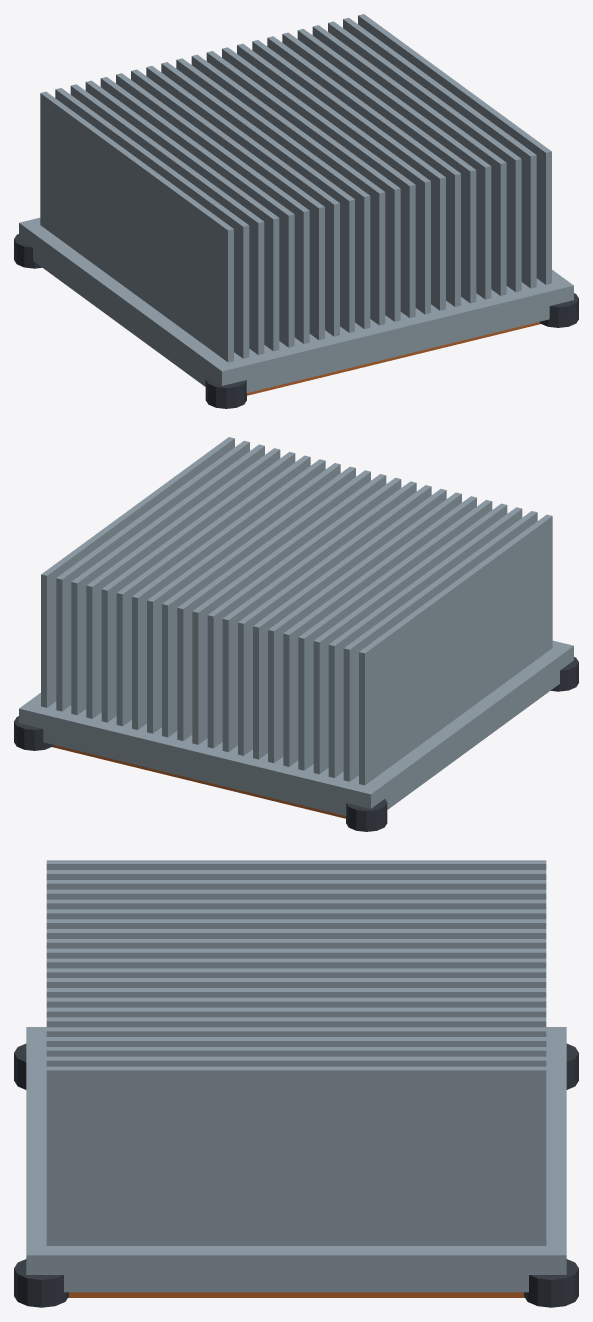
File: 126_L109_CPU_RemovableHeatsink.fbx
3 renders of one model, top to bottom at view 1: azimuth 30°, elevation 25°; view 2: azimuth 150°, elevation 25°; view 3: azimuth 270°, elevation 25°, orthographic. The views are drawn at different scales.
Visible parts, largest first — view 1: L109_CPU_RemovableHeatsink_ALUMINUM, L109_CPU_RemovableHeatsink_DARK_METAL, L109_CPU_RemovableHeatsink_COPPER; view 2: L109_CPU_RemovableHeatsink_ALUMINUM, L109_CPU_RemovableHeatsink_DARK_METAL, L109_CPU_RemovableHeatsink_COPPER; view 3: L109_CPU_RemovableHeatsink_ALUMINUM, L109_CPU_RemovableHeatsink_DARK_METAL, L109_CPU_RemovableHeatsink_COPPER.
Boxes of the visible parts, x1=… form: L109_CPU_RemovableHeatsink_ALUMINUM: x1=19, y1=14, x2=573, y2=392; L109_CPU_RemovableHeatsink_DARK_METAL: x1=14, y1=234, x2=578, y2=408; L109_CPU_RemovableHeatsink_COPPER: x1=247, y1=322, x2=540, y2=395; L109_CPU_RemovableHeatsink_ALUMINUM: x1=19, y1=437, x2=573, y2=815; L109_CPU_RemovableHeatsink_DARK_METAL: x1=14, y1=657, x2=578, y2=831; L109_CPU_RemovableHeatsink_COPPER: x1=52, y1=745, x2=345, y2=818; L109_CPU_RemovableHeatsink_ALUMINUM: x1=26, y1=860, x2=566, y2=1292; L109_CPU_RemovableHeatsink_DARK_METAL: x1=14, y1=1043, x2=578, y2=1307; L109_CPU_RemovableHeatsink_COPPER: x1=68, y1=1292, x2=524, y2=1297.
Size of the model in its own units: 55.4 by 55.4 by 25.
